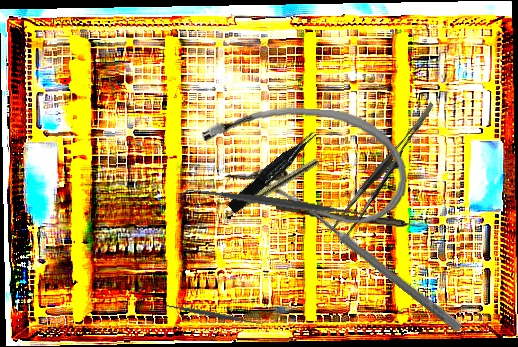Cannula: (195, 101, 412, 227)
Handpiece: (212, 156, 320, 227)
Spatula Surgical: (178, 178, 374, 227), (157, 297, 268, 331)
Surgical Spoon: (286, 190, 464, 333), (275, 205, 450, 233)
Tissue Forceps: (316, 102, 456, 244), (224, 129, 323, 214)
